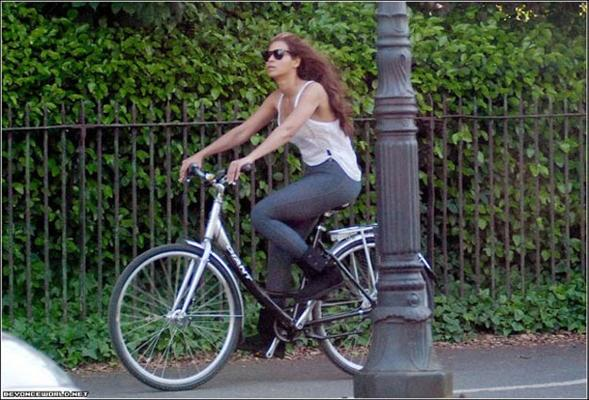person: (177, 35, 364, 359)
